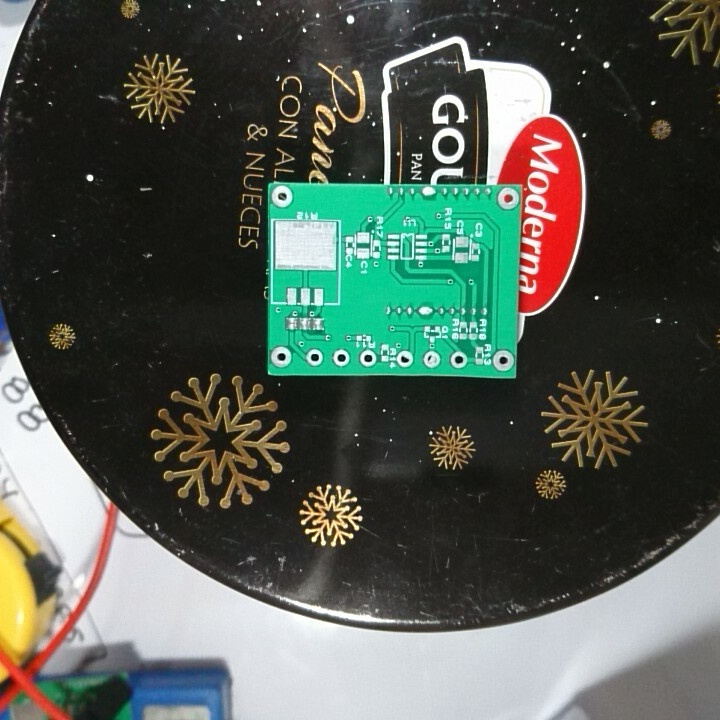F: (269, 183, 299, 209), (495, 186, 520, 212), (492, 346, 514, 372), (270, 345, 293, 369), (356, 347, 380, 369), (330, 347, 353, 369), (447, 349, 469, 371), (305, 344, 326, 366), (395, 349, 418, 369), (422, 348, 442, 369)
P: (415, 303, 436, 323), (419, 184, 439, 203)
